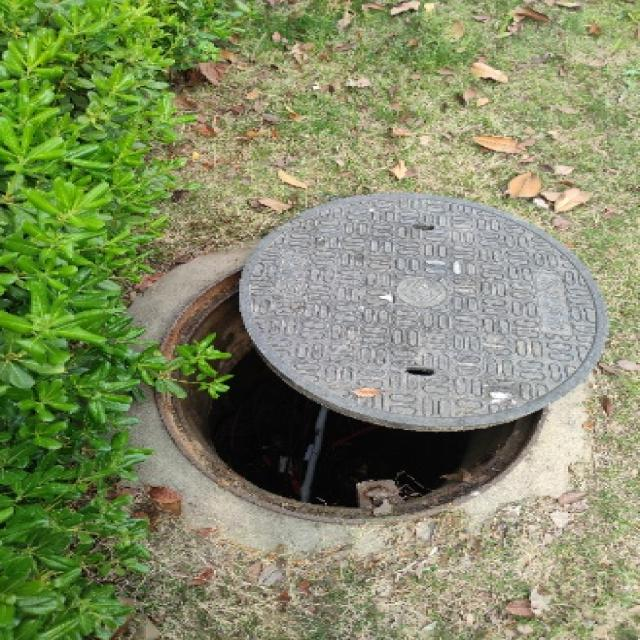Lose: (89, 166, 625, 547)
